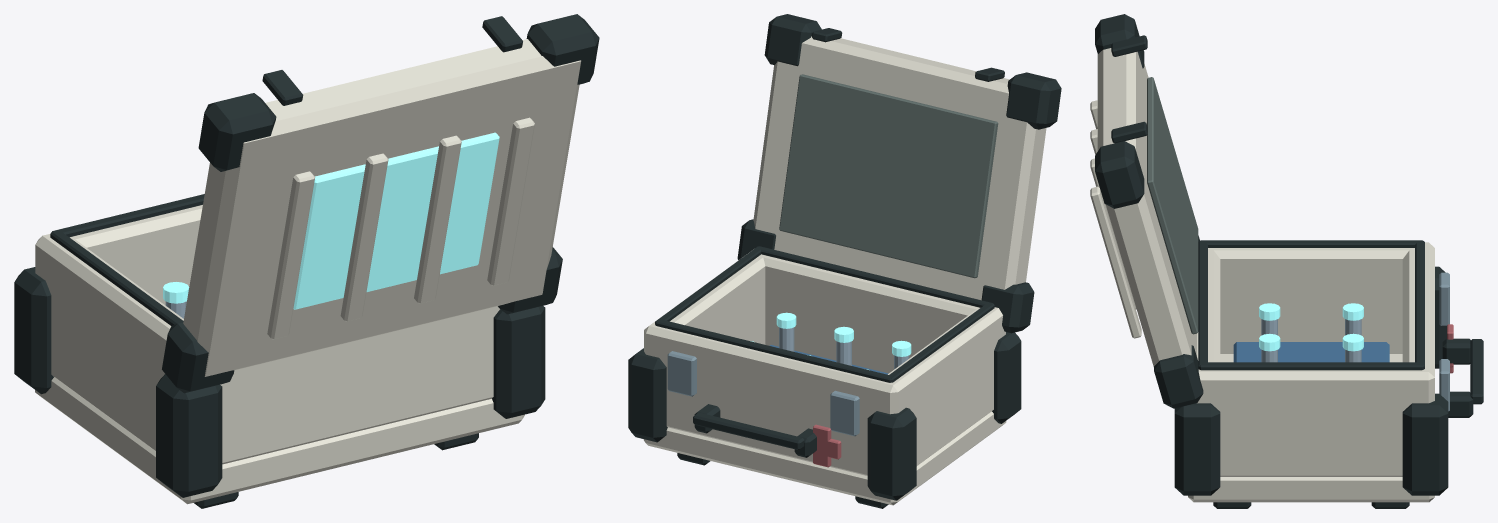
File: sample_transport_case_opened.glb
3 renders of one model, left to right at view 1: azimuth 30°, elevation 25°; view 2: azimuth 150°, elevation 25°; view 3: azimuth 270°, elevation 25°, orthographic. The views are drawn at different scales.
Visible parts, largest first — view 1: moving_lid, body_back_wall, moving_lid_identity, corner_pad (×3), body_side_wall, moving_rib (×4), body_floor, moving_corner_cap (×4), body_front_wall, rim_seal (×2), moving_latch_hook (×2); view 2: moving_lid_pad, moving_lid, body_front_wall, body_side_wall (×2), body_back_wall, corner_pad (×3), moving_corner_cap (×4), body_floor, rim_seal (×4), latch_base (×2), front_carry_grip, sample_badge_vertical; view 3: body_side_wall (×2), moving_lid, corner_pad (×3), moving_lid_pad, rim_seal (×4), moving_corner_cap (×3), body_floor, body_front_wall, sample_rack, moving_rib, body_back_wall, front_carry_mount (×2) (+3 smaller).
Boxes of the visible parts, <box> form: moving_lid: <box>183,39,581,376</box>; body_back_wall: <box>220,306,499,464</box>; moving_lid_identity: <box>293,132,499,309</box>; corner_pad (×3): <box>14,267,545,497</box>; body_side_wall: <box>35,234,183,450</box>; moving_rib (×4): <box>267,117,534,339</box>; body_floor: <box>35,377,524,504</box>; moving_corner_cap (×4): <box>162,14,599,393</box>; body_front_wall: <box>35,205,202,305</box>; rim_seal (×2): <box>50,194,204,325</box>; moving_latch_hook (×2): <box>262,16,522,105</box>; moving_lid_pad: <box>779,74,998,278</box>; moving_lid: <box>753,36,1046,300</box>; body_front_wall: <box>646,319,907,475</box>; body_side_wall (×2): <box>644,252,1005,465</box>; body_back_wall: <box>753,249,1005,373</box>; corner_pad (×3): <box>628,332,1021,500</box>; moving_corner_cap (×4): <box>737,14,1061,333</box>; body_floor: <box>643,411,1006,505</box>; rim_seal (×4): <box>655,246,994,382</box>; latch_base (×2): <box>667,351,859,436</box>; front_carry_grip: <box>693,412,804,450</box>; sample_badge_vertical: <box>813,424,831,467</box>; body_side_wall (×2): <box>1197,242,1434,476</box>; moving_lid: <box>1097,48,1196,366</box>; corner_pad (×3): <box>1174,266,1448,495</box>; moving_lid_pad: <box>1147,77,1198,334</box>; rim_seal (×4): <box>1198,240,1424,370</box>; moving_corner_cap (×3): <box>1095,14,1203,408</box>; body_floor: <box>1188,354,1434,502</box>; body_front_wall: <box>1402,242,1434,403</box>; sample_rack: <box>1233,342,1389,362</box>; moving_rib: <box>1090,186,1141,338</box>; body_back_wall: <box>1197,248,1220,405</box>; front_carry_mount (×2): <box>1442,338,1473,417</box>.
Size of the model in its own units: 0.93 by 1.08 by 1.03.
